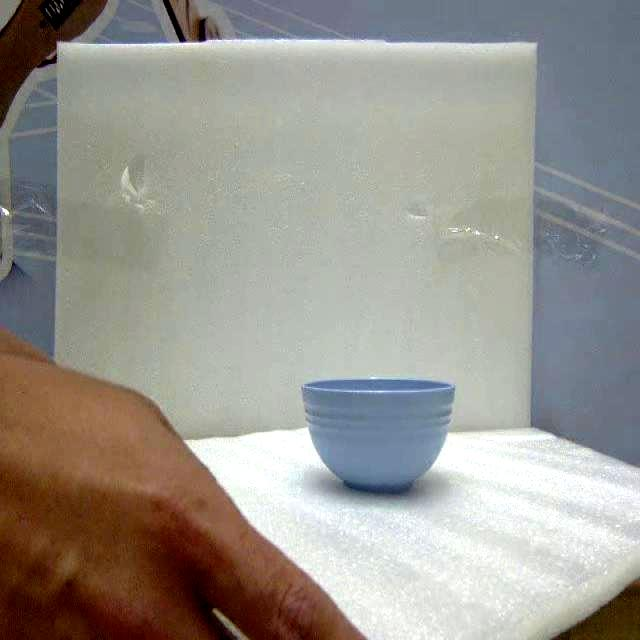Bowl: (302, 378, 454, 491)
